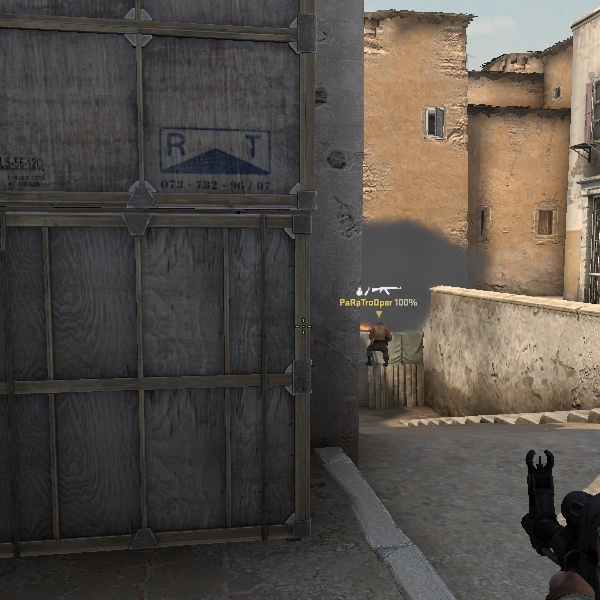t_body: (366, 319, 391, 367)
t_head: (375, 320, 385, 330)
